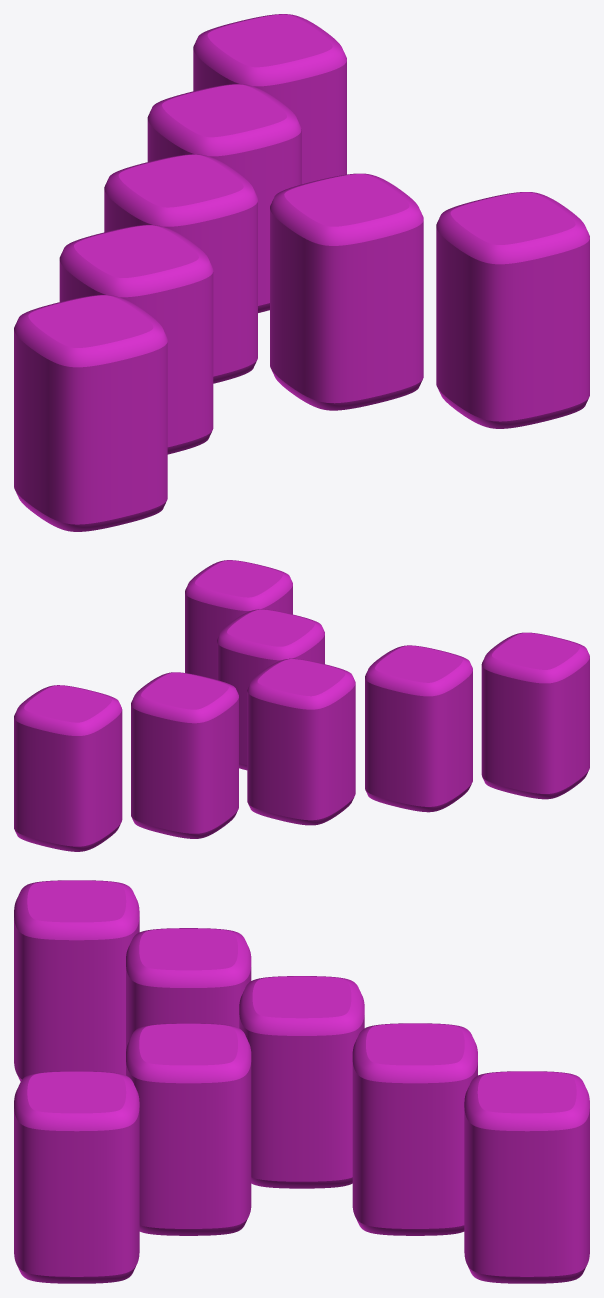
The model's file is Letter_y_Small.fbx.
3 views of the same model, one above another, from view 1: azimuth 30°, elevation 25°; view 2: azimuth 150°, elevation 25°; view 3: azimuth 270°, elevation 25° (orthographic). The views are drawn at different scales.
Parts seen in each view (by area): view 1: Letter_y; view 2: Letter_y; view 3: Letter_y.
Part boxes in pixels (x1=…): Letter_y: x1=14, y1=14, x2=589, y2=531; Letter_y: x1=14, y1=560, x2=589, y2=851; Letter_y: x1=14, y1=880, x2=589, y2=1283.
Bounding box in the file's own units: 0.4311 × 0.14 × 0.43.
